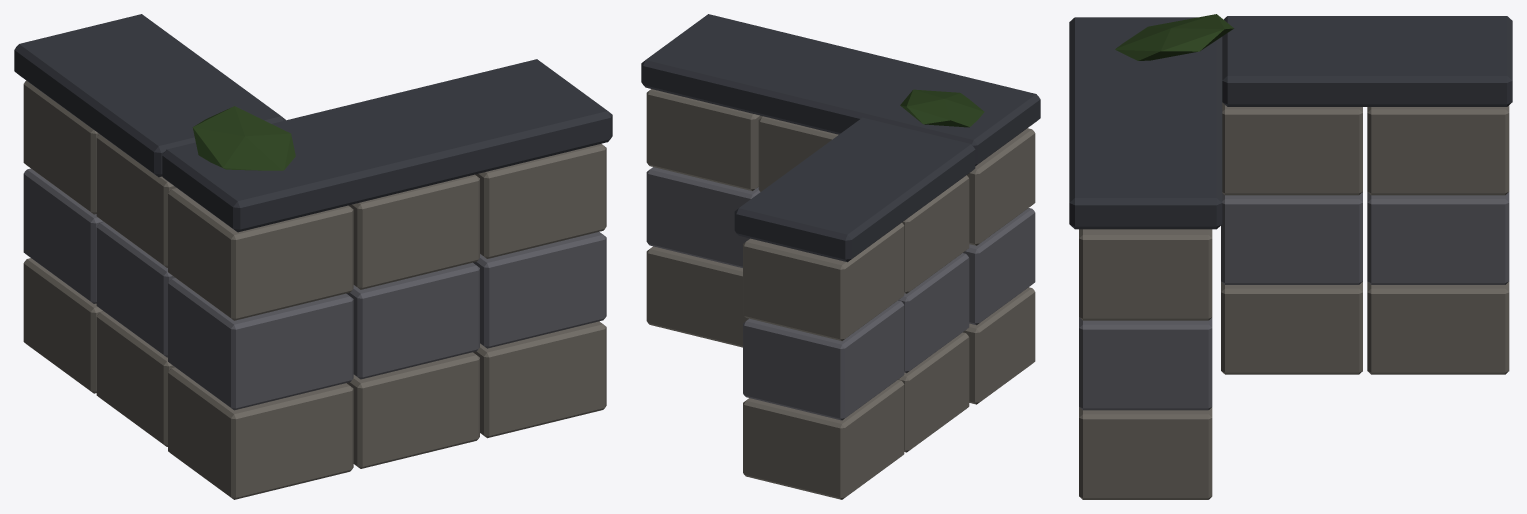
The model's file is Ruin_Corner.glb.
3 renders of one model, left to right at view 1: azimuth 30°, elevation 25°; view 2: azimuth 150°, elevation 25°; view 3: azimuth 270°, elevation 25°, orthographic. The views are drawn at different scales.
Parts seen in each view (by area): view 1: Ruin_Corner; view 2: Ruin_Corner; view 3: Ruin_Corner.
Boxes of the visible parts, box(x1,y1,x2,y2) form: Ruin_Corner: box(14, 14, 612, 499); Ruin_Corner: box(641, 14, 1040, 499); Ruin_Corner: box(1069, 14, 1512, 499).
Bounding box in the file's own units: 2.05 × 1.67 × 2.06.
